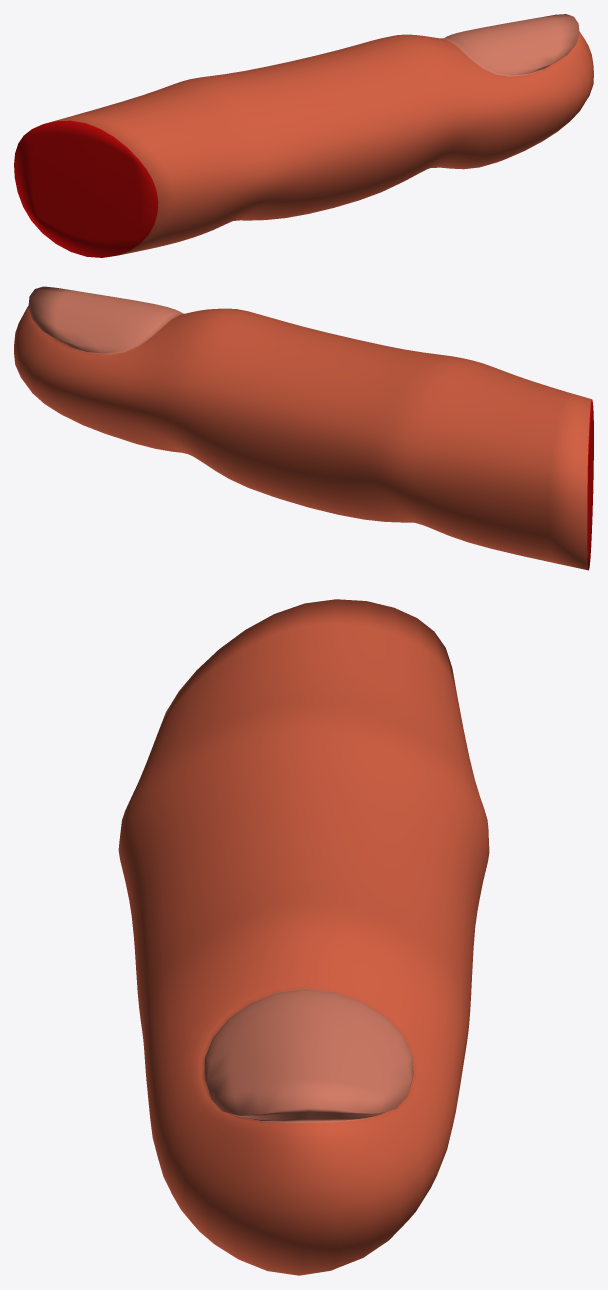
File: finger.fbx
3 views of the same model, one above another, from view 1: azimuth 30°, elevation 25°; view 2: azimuth 150°, elevation 25°; view 3: azimuth 270°, elevation 25° (orthographic). The views are drawn at different scales.
Parts seen in each view (by area): view 1: Cube; view 2: Cube; view 3: Cube.
Boxes of the visible parts, x1,y1,x2,y2 form: Cube: (14, 14, 593, 257); Cube: (14, 286, 593, 570); Cube: (118, 599, 489, 1275).
Bounding box in the file's own units: 498 × 128 × 149.
